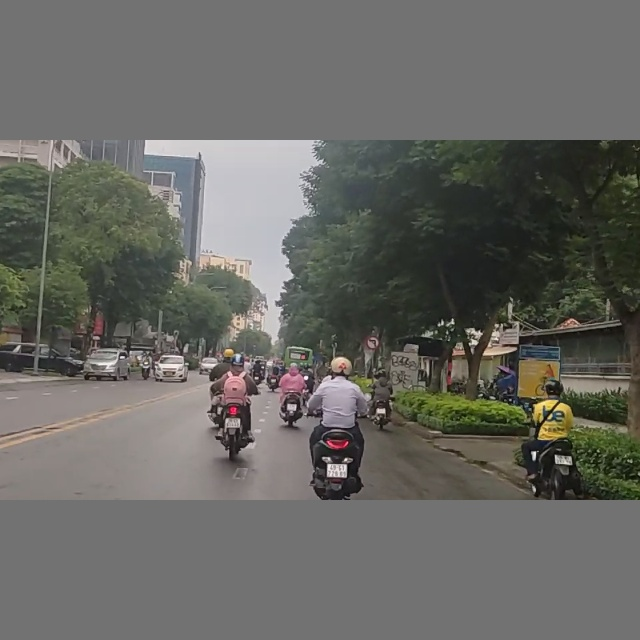P.123a: (365, 336, 381, 351)
